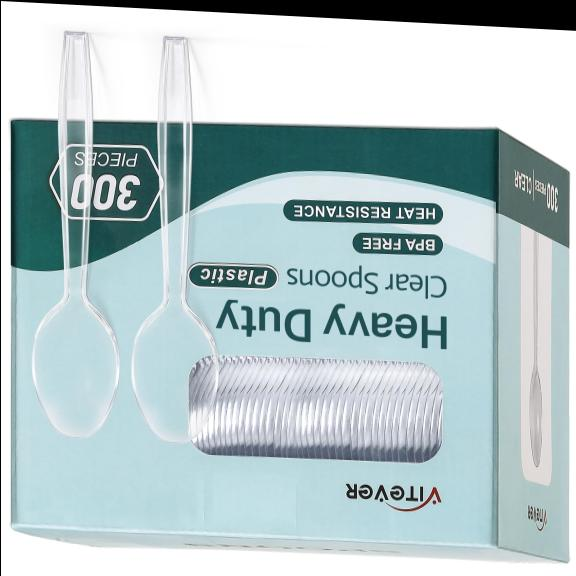Plastik: (131, 37, 217, 442), (32, 32, 117, 436), (193, 355, 441, 462), (529, 232, 541, 465)
